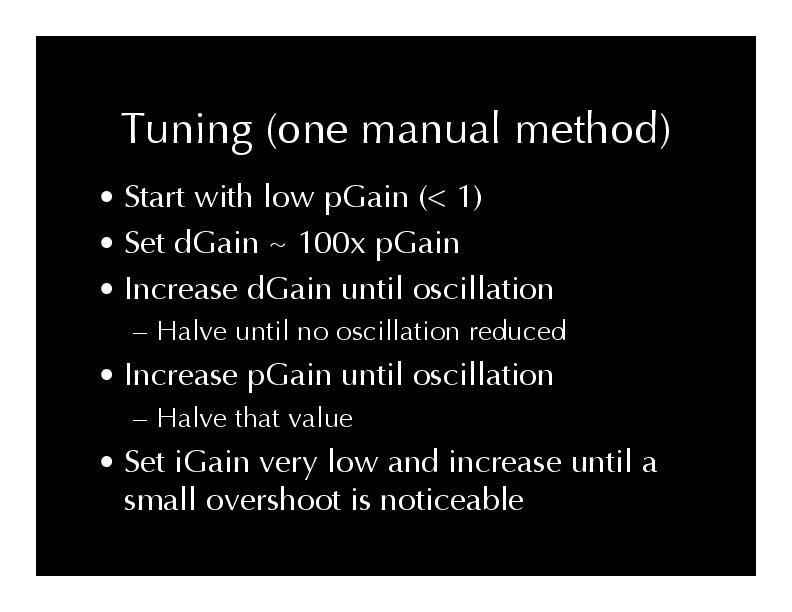paragraph: (120, 169, 688, 526)
title: (119, 93, 682, 163)
